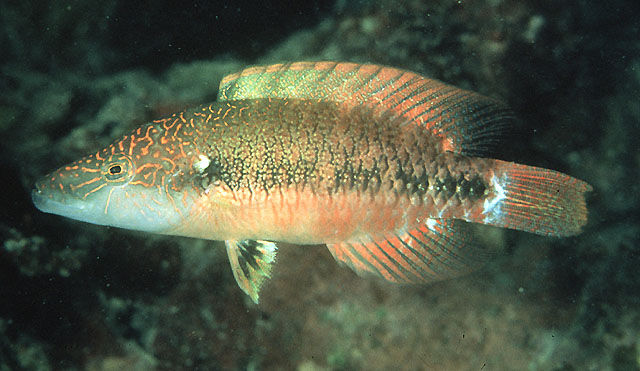fish: (31, 59, 595, 306)
